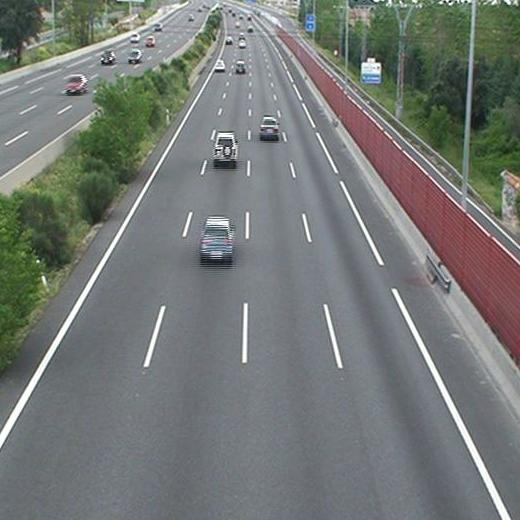car: (200, 217, 232, 261), (213, 133, 238, 165), (260, 118, 278, 138), (235, 61, 246, 73), (214, 60, 225, 71), (238, 39, 246, 48), (224, 37, 232, 44)
